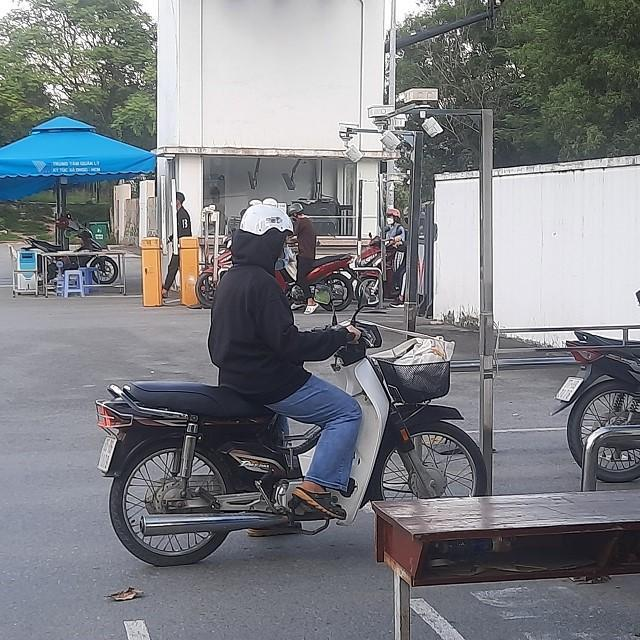Helmet: (235, 202, 295, 268)
